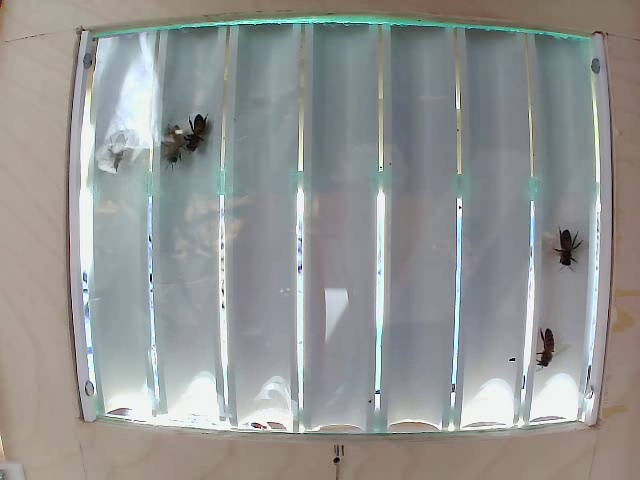bee: (154, 120, 187, 167), (181, 110, 209, 158), (100, 131, 127, 173), (556, 222, 574, 276), (534, 330, 560, 367)
